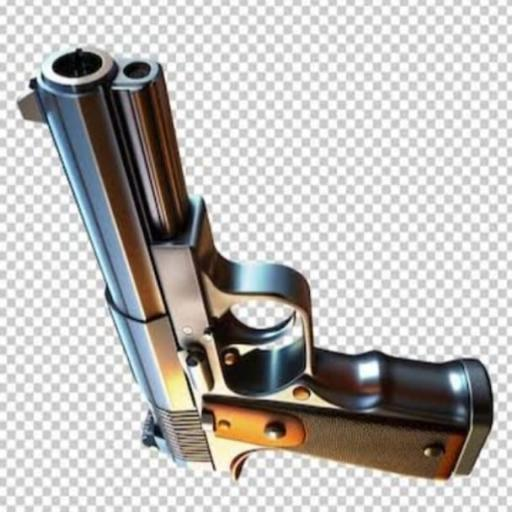Gun: (19, 48, 492, 477)
